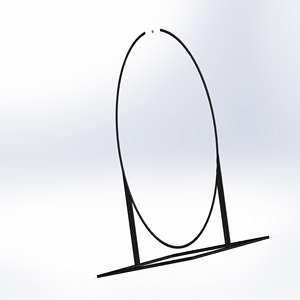circle: (94, 26, 271, 277)
